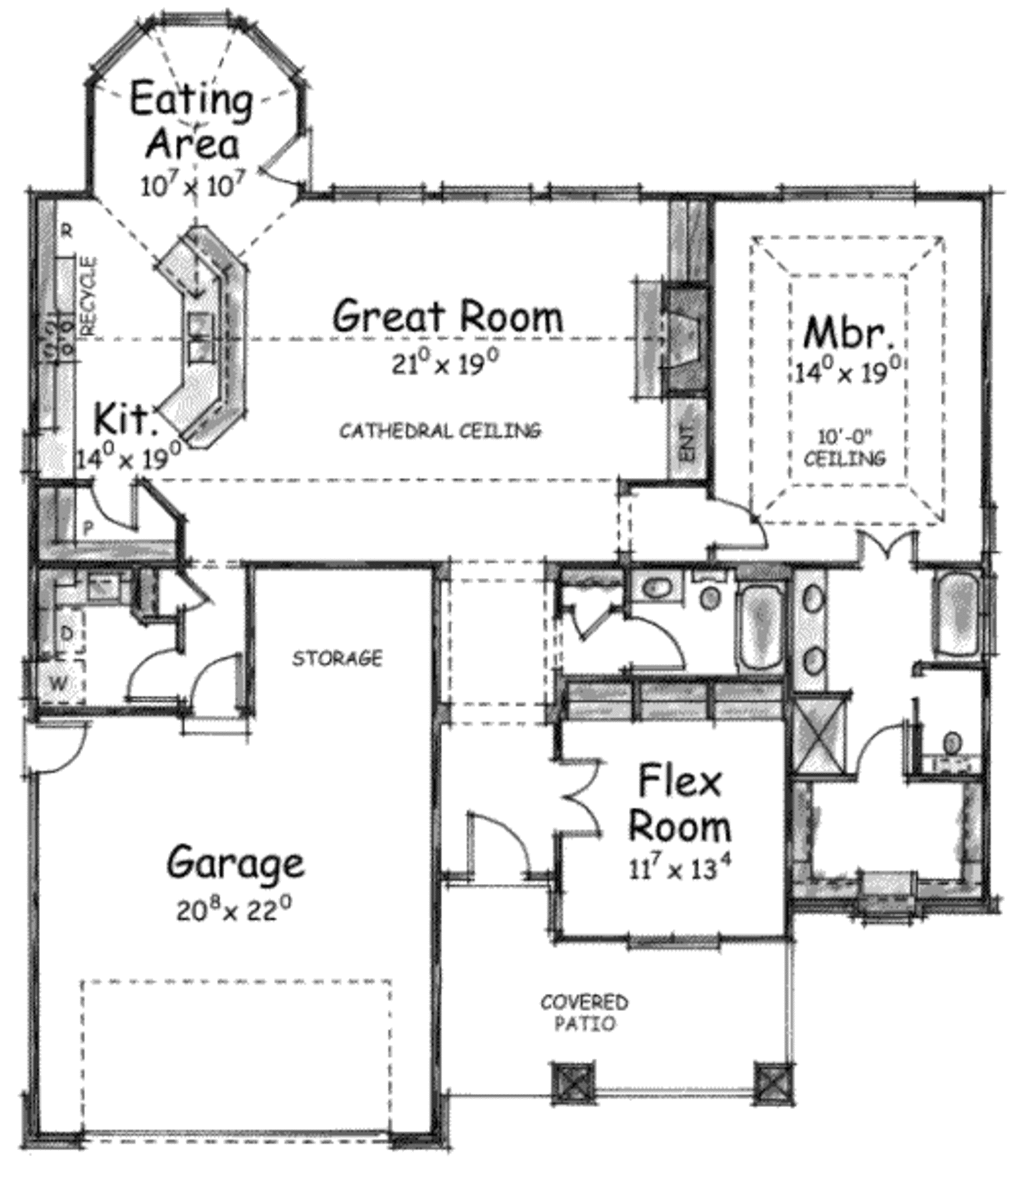door: (450, 791, 535, 885), (244, 127, 343, 198), (538, 745, 611, 840), (183, 651, 256, 738), (10, 711, 94, 778), (615, 610, 699, 676), (698, 488, 783, 550), (115, 640, 189, 711), (847, 523, 937, 576), (84, 467, 151, 538), (559, 590, 620, 650), (855, 716, 908, 785), (167, 564, 215, 612)
kitchen_bar: (138, 218, 271, 459)
large_sink: (677, 564, 731, 616), (931, 724, 973, 777)
small_sink: (790, 567, 823, 706), (625, 571, 682, 606)
tub: (734, 567, 789, 676), (930, 565, 977, 661)
twin_sink: (161, 296, 231, 368)
window: (773, 172, 936, 206), (617, 926, 736, 960), (545, 176, 656, 210), (327, 176, 433, 207), (442, 178, 527, 211), (856, 905, 921, 932)
